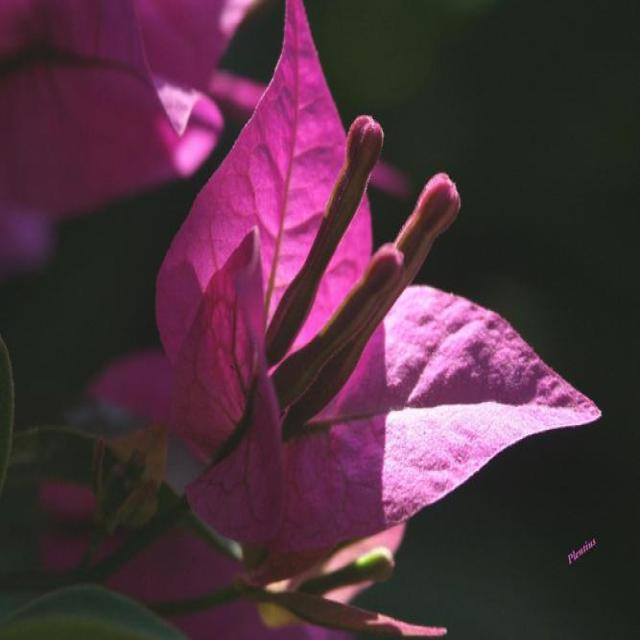bougainvillea: (94, 14, 630, 640)
